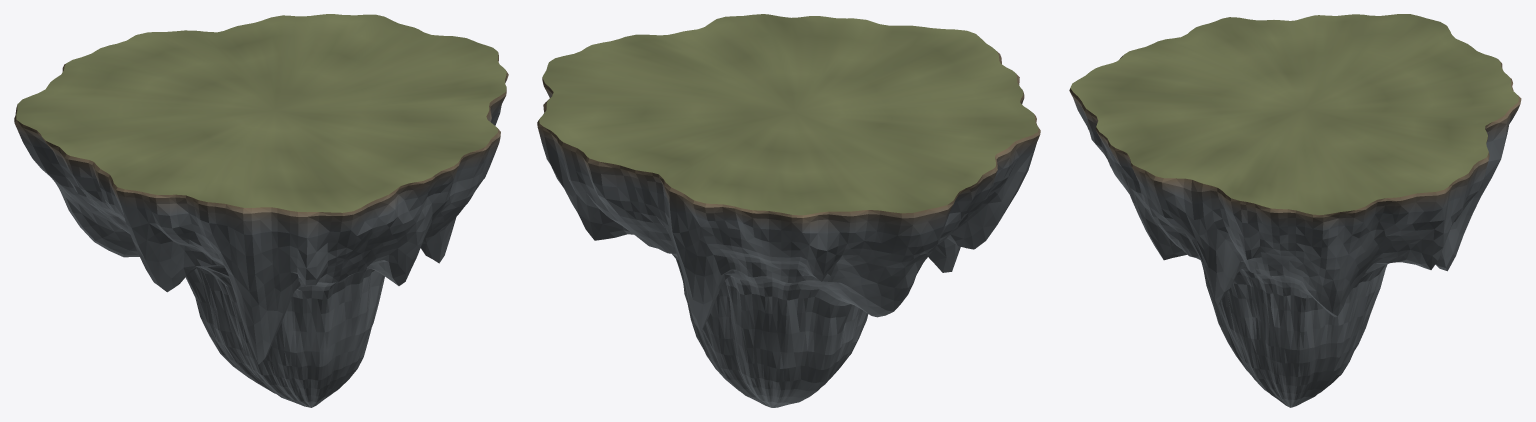
File: asteroid.glb
3 views of the same model, side by side, from view 1: azimuth 30°, elevation 25°; view 2: azimuth 150°, elevation 25°; view 3: azimuth 270°, elevation 25° (orthographic). The views are drawn at different scales.
Parts seen in each view (by area): view 1: Asteroid_Surface, Asteroid_Rock; view 2: Asteroid_Surface, Asteroid_Rock; view 3: Asteroid_Surface, Asteroid_Rock.
Part boxes in pixels (x1,y1,x2,y2): Asteroid_Surface: (16,14,506,212); Asteroid_Rock: (14,53,508,407); Asteroid_Surface: (539,14,1038,215); Asteroid_Rock: (537,51,1040,407); Asteroid_Surface: (1070,14,1518,214); Asteroid_Rock: (1069,55,1521,407).
Bounding box in the file's own units: 104 × 68.4 × 98.14.
